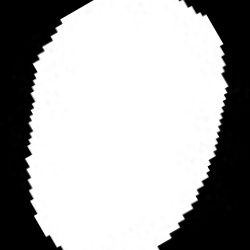spot: (26, 1, 227, 248)
